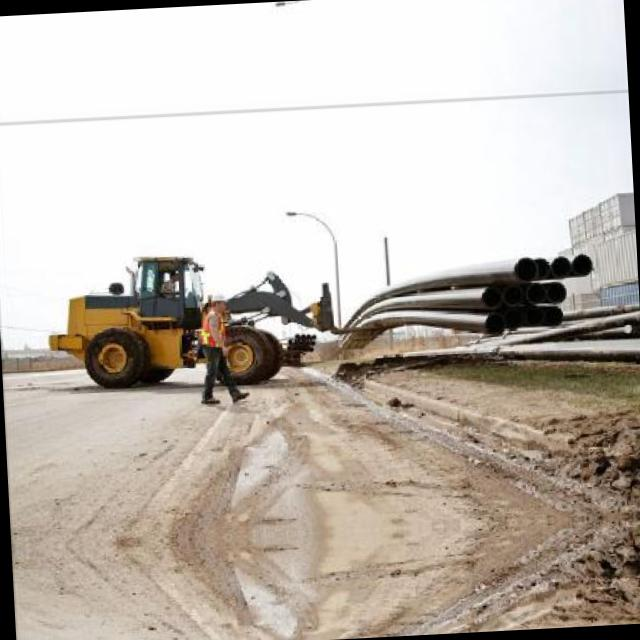helmet: (208, 291, 230, 314)
